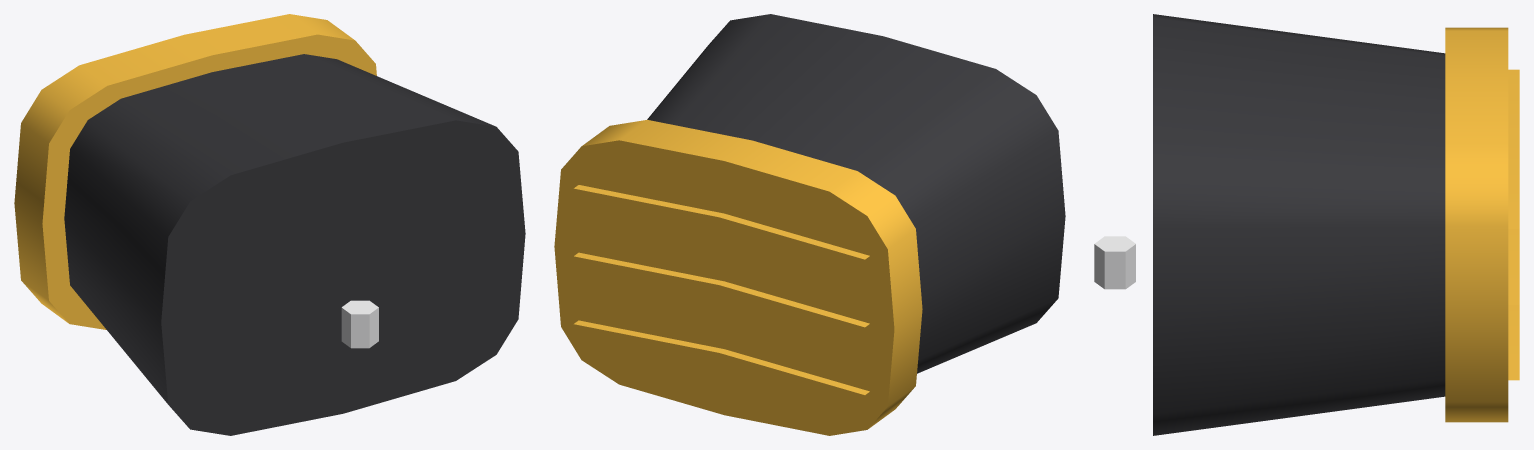
The model's file is stalk.glb.
3 renders of one model, left to right at view 1: azimuth 30°, elevation 25°; view 2: azimuth 150°, elevation 25°; view 3: azimuth 270°, elevation 25°, orthographic. The views are drawn at different scales.
Visible parts, largest first — view 1: lod0; view 2: lod0; view 3: lod0.
Part boxes in pixels (x1,y1,x2,y2): lod0: (14, 14, 525, 435); lod0: (554, 14, 1065, 435); lod0: (1094, 14, 1519, 435).
Size of what is drawn, in the model's own units: 0.045 by 0.032 by 0.0407.
